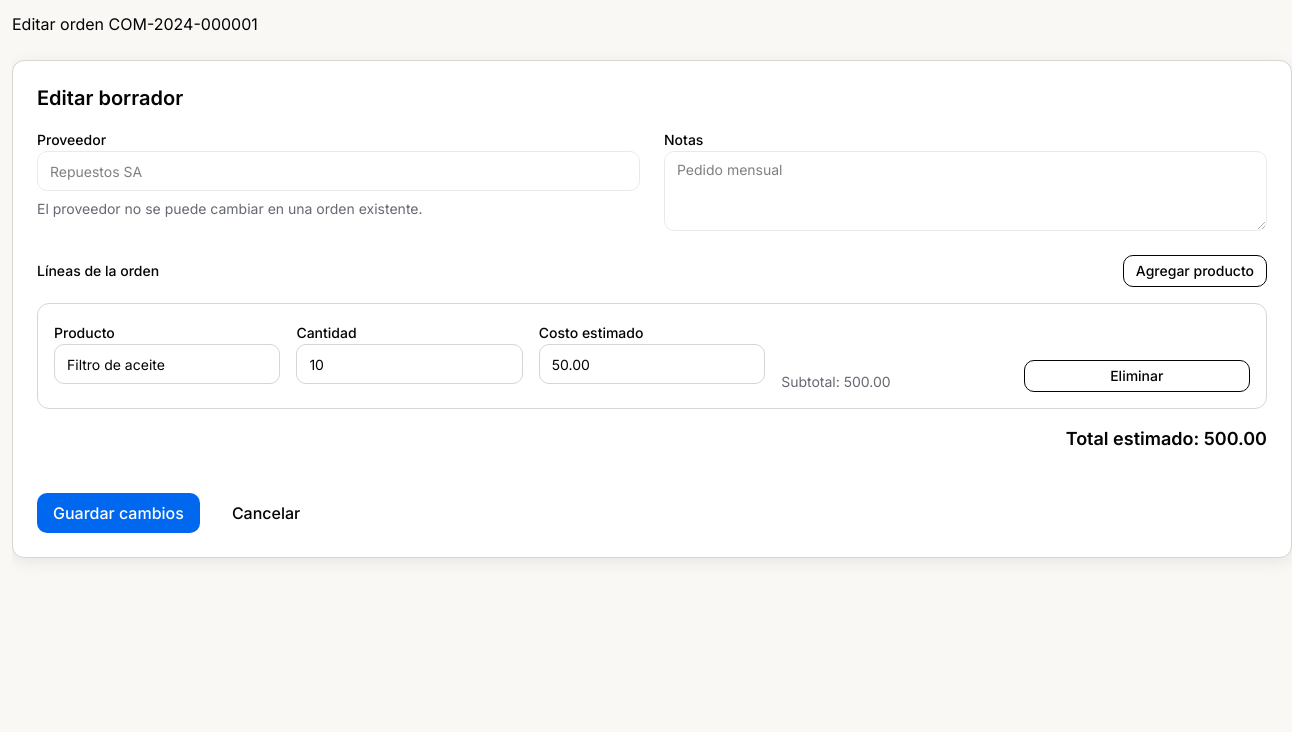
PurchaseOrderFormPage — edit mode › shows the mapped API error when the update fails
Expected: the dropdown labelled "Producto" holds "Filtro de aceite", [54,344,280,384]
Click the button "Guardar cambios" at (118, 513), box [37,493,200,533]
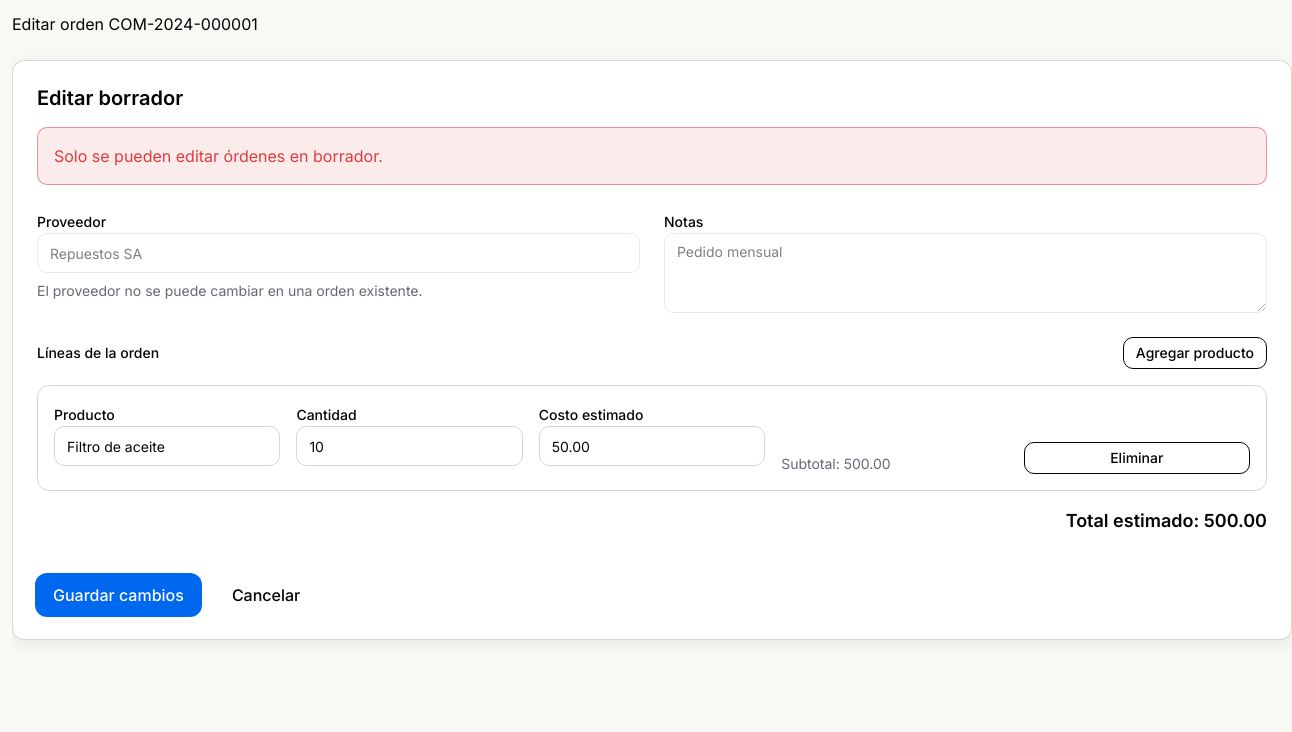
Now the message reads "Solo se pueden editar órdenes en borrador.", box [54,146,383,166]
